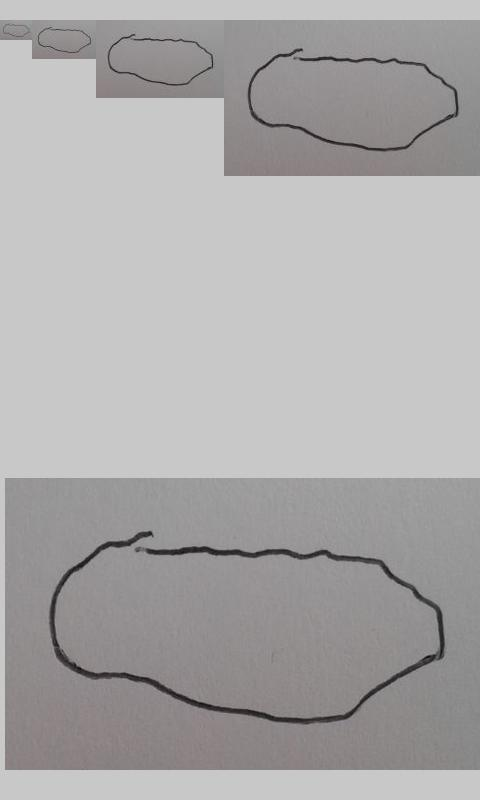chip: (47, 530, 447, 725), (247, 48, 459, 153), (107, 33, 214, 86), (37, 27, 92, 54), (2, 23, 31, 38)
